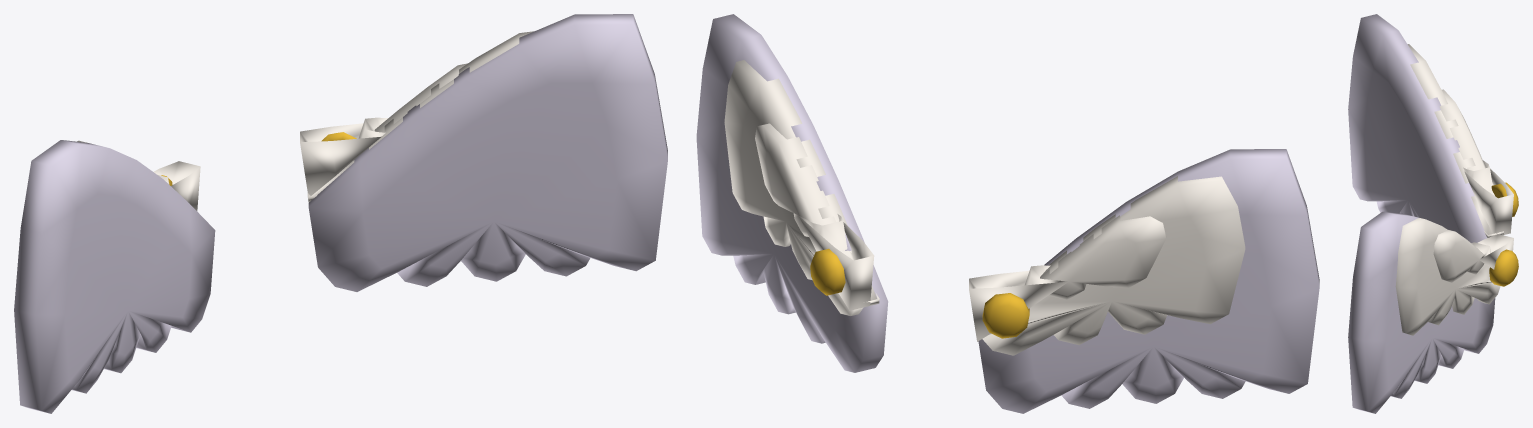
File: ailes_ange.fbx
The picture shows the model from 3 angles, left to right: view 1: azimuth 30°, elevation 25°; view 2: azimuth 150°, elevation 25°; view 3: azimuth 270°, elevation 25°; orthographic projection. The views are drawn at different scales.
Parts seen in each view (by area): view 1: Anim_RangBasGauche, Anim_RangBasDroite, AileGauche, Anim_RangMilieuGauche, AileDroite; view 2: Anim_RangBasDroite, Anim_RangBasGauche, Anim_RangMilieuDroite, AileDroite, Anim_RangMilieuGauche, AileGauche; view 3: Anim_RangBasDroite, Anim_RangBasGauche, Anim_RangMilieuGauche, AileDroite, AileGauche, Anim_RangMilieuDroite.
Part boxes in pixels (left/top/right/bottom): Anim_RangBasGauche: left=308, top=14, right=667, bottom=291; Anim_RangBasDroite: left=14, top=140, right=215, bottom=413; AileGauche: left=300, top=63, right=467, bottom=195; Anim_RangMilieuGauche: left=307, top=31, right=534, bottom=202; AileDroite: left=153, top=161, right=200, bottom=210; Anim_RangBasDroite: left=978, top=149, right=1319, bottom=413; Anim_RangBasGauche: left=696, top=14, right=888, bottom=372; Anim_RangMilieuDroite: left=982, top=176, right=1245, bottom=355; AileDroite: left=969, top=215, right=1166, bottom=341; Anim_RangMilieuGauche: left=724, top=60, right=879, bottom=315; AileGauche: left=755, top=123, right=874, bottom=310; Anim_RangBasDroite: left=1348, top=14, right=1486, bottom=242; Anim_RangBasGauche: left=1348, top=211, right=1495, bottom=413; Anim_RangMilieuGauche: left=1395, top=218, right=1500, bottom=335; AileDroite: left=1439, top=89, right=1518, bottom=235; AileGauche: left=1433, top=230, right=1518, bottom=286; Anim_RangMilieuDroite: left=1407, top=44, right=1503, bottom=237.
Size of the model in its own units: 1.51 by 0.5914 by 0.4629.
